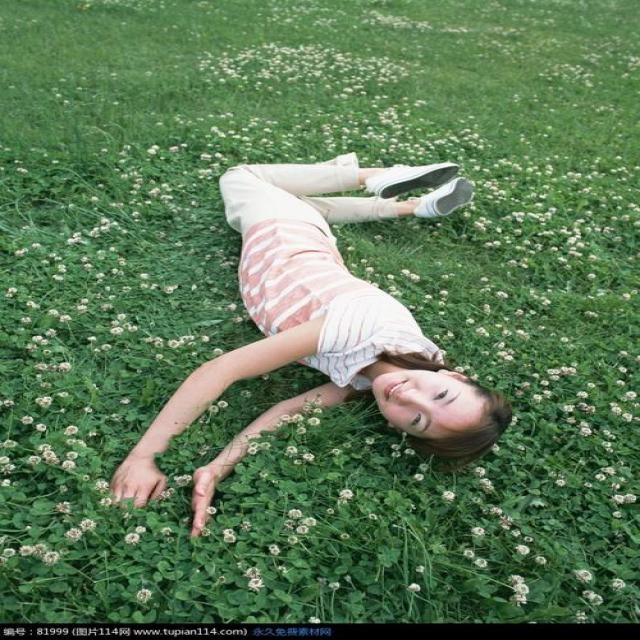down: (96, 142, 522, 533)
